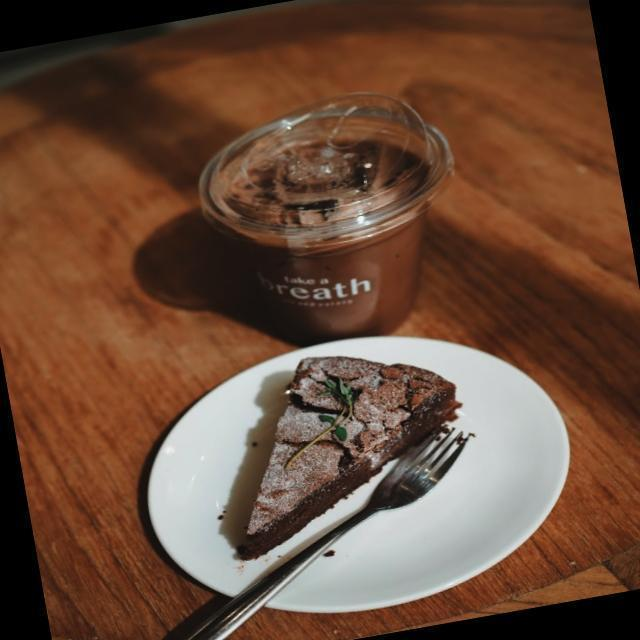cup: (206, 92, 456, 354)
